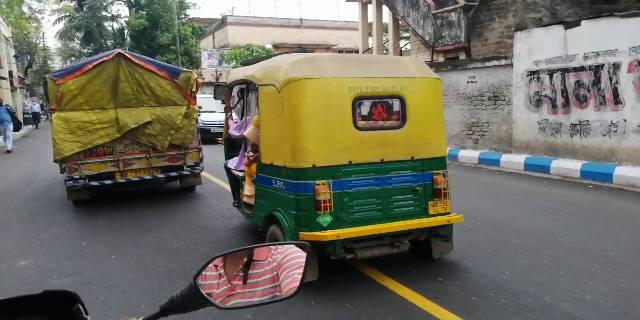Autorickshaw: (210, 54, 465, 278)
Minitruck: (38, 47, 203, 210)
